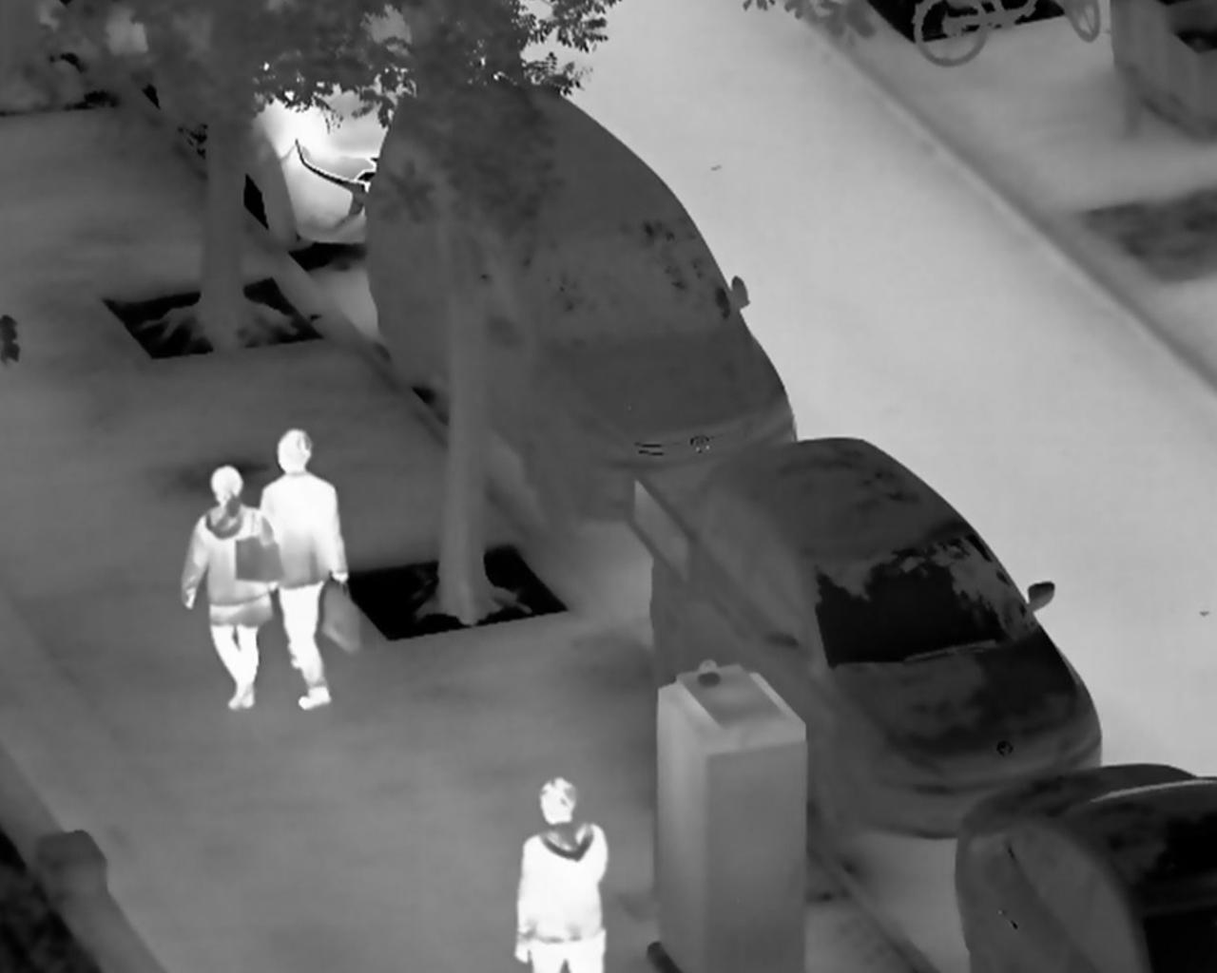person: (255, 429, 354, 715), (177, 463, 281, 714), (512, 775, 612, 973)
